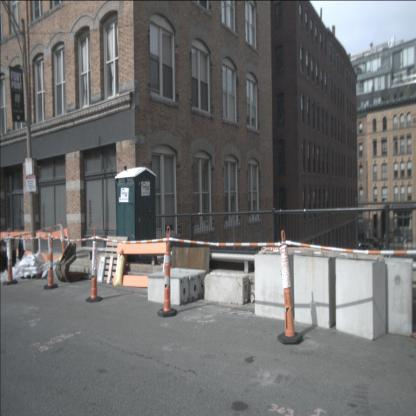cone: (277, 230, 303, 345), (158, 226, 178, 318), (86, 226, 103, 302), (44, 226, 58, 290), (3, 228, 18, 286), (58, 217, 70, 276)
